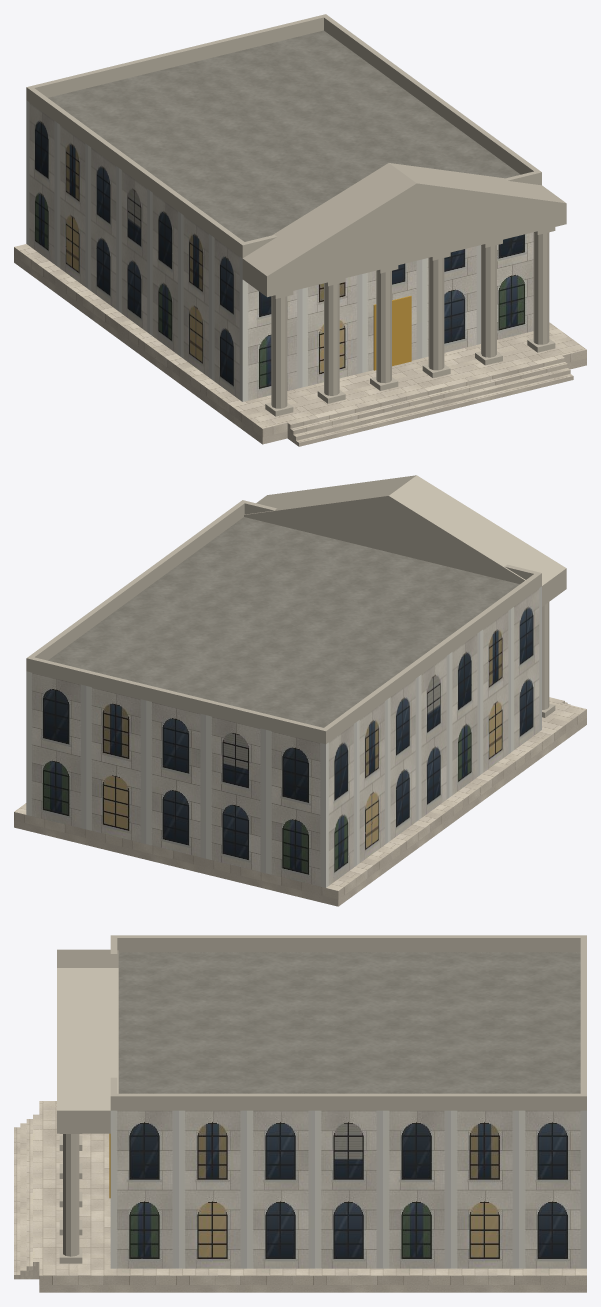
File: 064_bank_portico.glb
3 views of the same model, one above another, from view 1: azimuth 30°, elevation 25°; view 2: azimuth 150°, elevation 25°; view 3: azimuth 270°, elevation 25° (orthographic). The views are drawn at different scales.
Visible parts, largest first — view 1: 064_bank_portico; view 2: 064_bank_portico; view 3: 064_bank_portico.
Part boxes in pixels (x1,y1,x2,y2): 064_bank_portico: (14, 14, 586, 446); 064_bank_portico: (14, 475, 586, 906); 064_bank_portico: (14, 935, 586, 1292).
Size of the model in its own units: 26 by 16.52 by 36.1.
5 materials, 3 textured.
